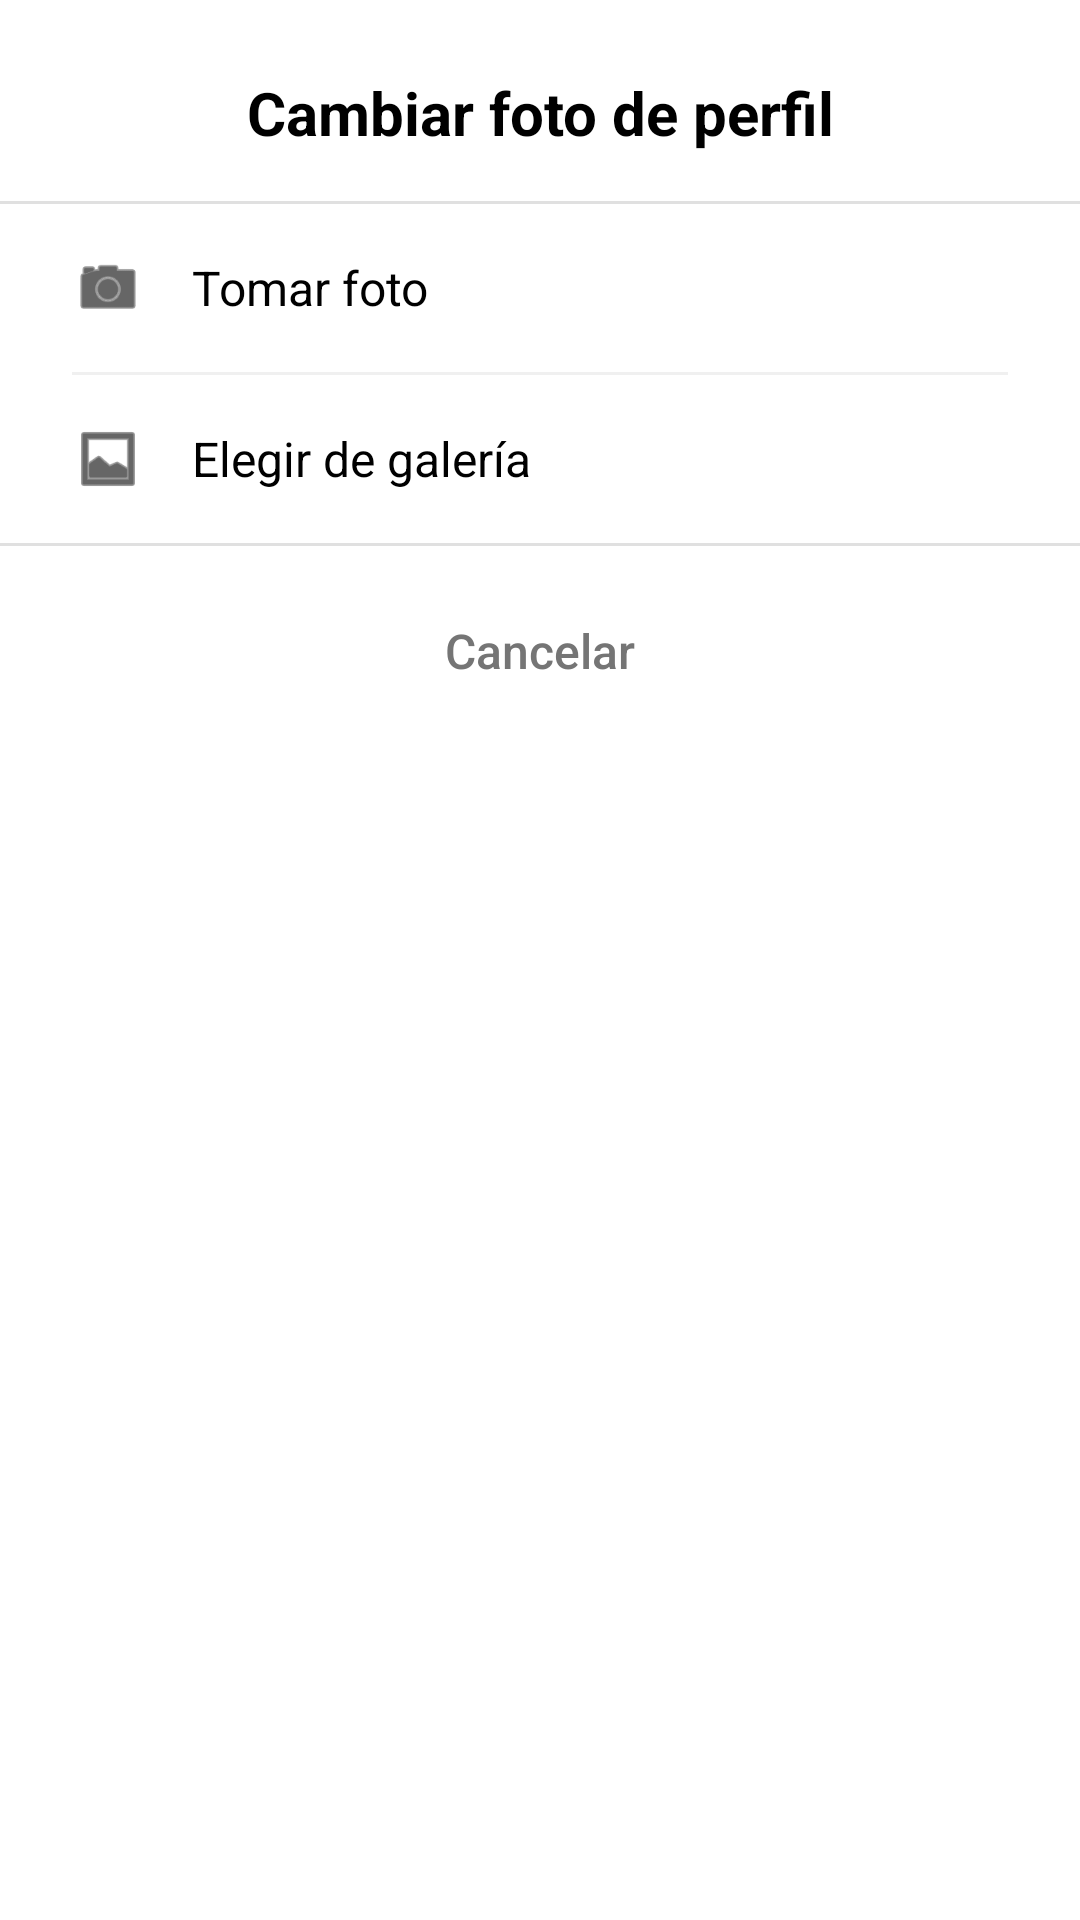

Named icons in this screenshot (1080×1920) and their centers, (x=x, y=y):
camera: (x=108, y=287)
gallery: (x=108, y=459)
